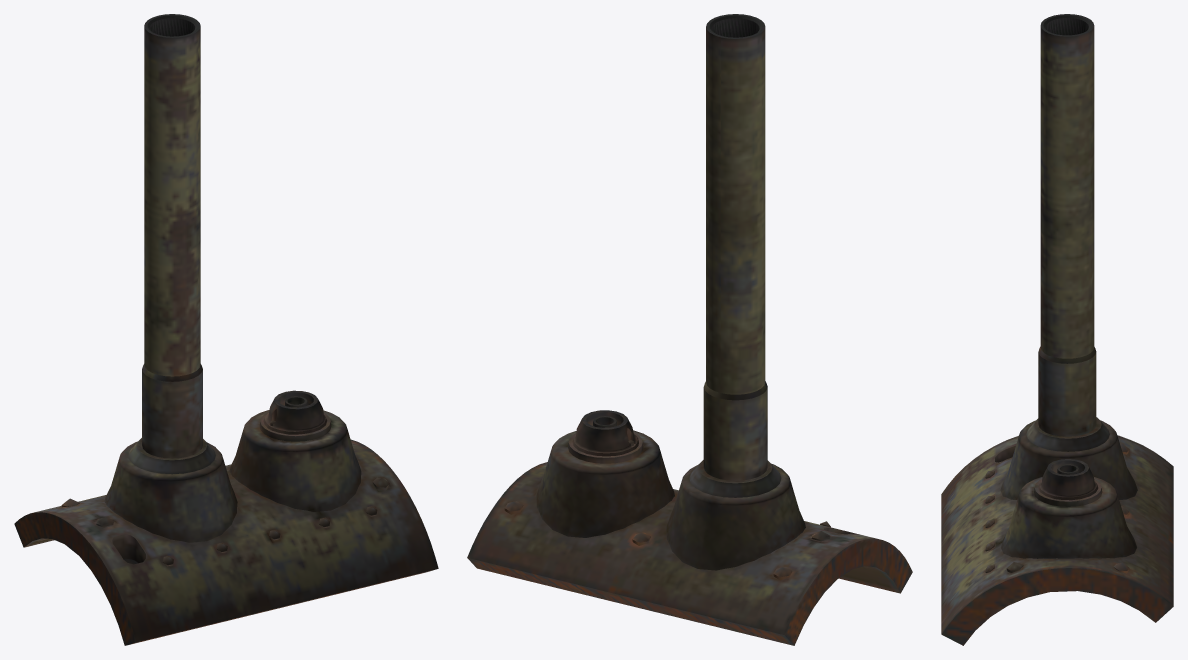
The model's file is Gun_01.glb.
3 renders of one model, left to right at view 1: azimuth 30°, elevation 25°; view 2: azimuth 150°, elevation 25°; view 3: azimuth 270°, elevation 25°, orthographic. The views are drawn at different scales.
Visible parts, largest first — view 1: set_0_group_0; view 2: set_0_group_0; view 3: set_0_group_0.
Boxes of the visible parts, left/top/right/bottom form: set_0_group_0: left=14, top=14, right=438, bottom=645; set_0_group_0: left=467, top=14, right=912, bottom=645; set_0_group_0: left=941, top=14, right=1173, bottom=645.
Size of the model in its own units: 0.9258 by 1.62 by 0.6479.
Materials: 1 (1 with a texture image).
